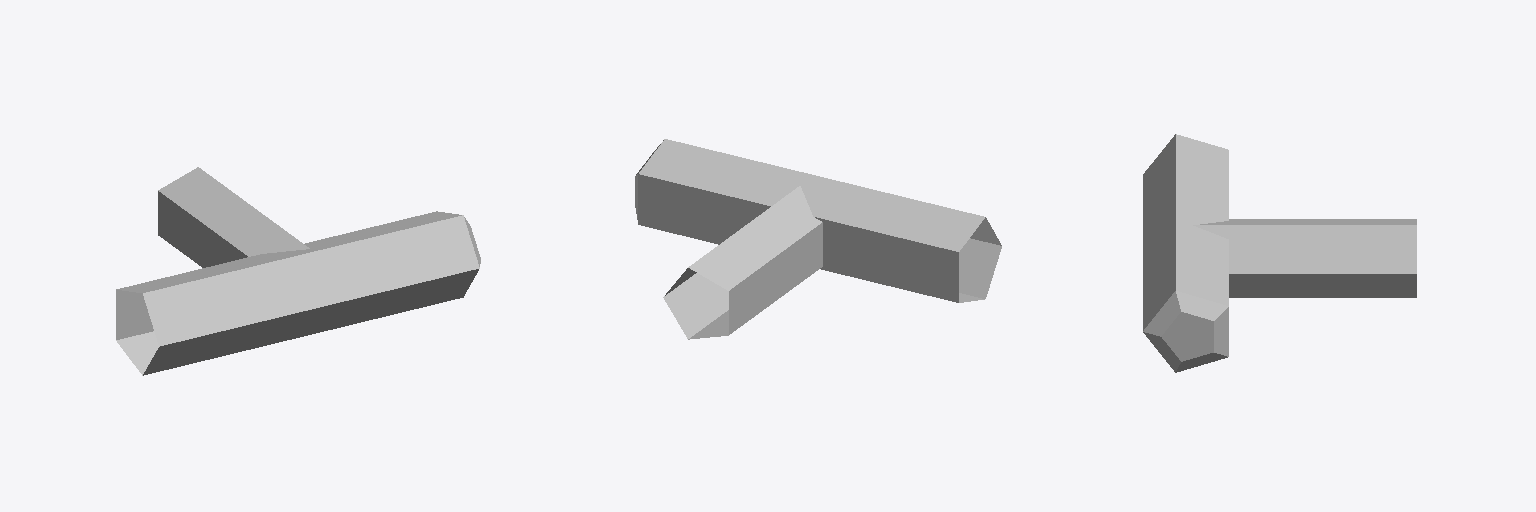
Rendered from original-32.obj.
3 views of the same model, side by side, from view 1: azimuth 30°, elevation 25°; view 2: azimuth 150°, elevation 25°; view 3: azimuth 270°, elevation 25° (orthographic).
Parts seen in each view (by area): view 1: BP3a_1_1/BP3a_1/mesh22/mesh22-geometry#mesh22-geometry; view 2: BP3a_1_1/BP3a_1/mesh22/mesh22-geometry#mesh22-geometry; view 3: BP3a_1_1/BP3a_1/mesh22/mesh22-geometry#mesh22-geometry.
Part boxes in pixels (x1,y1,x2,y2): BP3a_1_1/BP3a_1/mesh22/mesh22-geometry#mesh22-geometry: (116, 167, 480, 375); BP3a_1_1/BP3a_1/mesh22/mesh22-geometry#mesh22-geometry: (635, 139, 1001, 339); BP3a_1_1/BP3a_1/mesh22/mesh22-geometry#mesh22-geometry: (1143, 134, 1416, 372).
Size of the model in its own units: 0.0712 by 0.0169 by 0.0512.